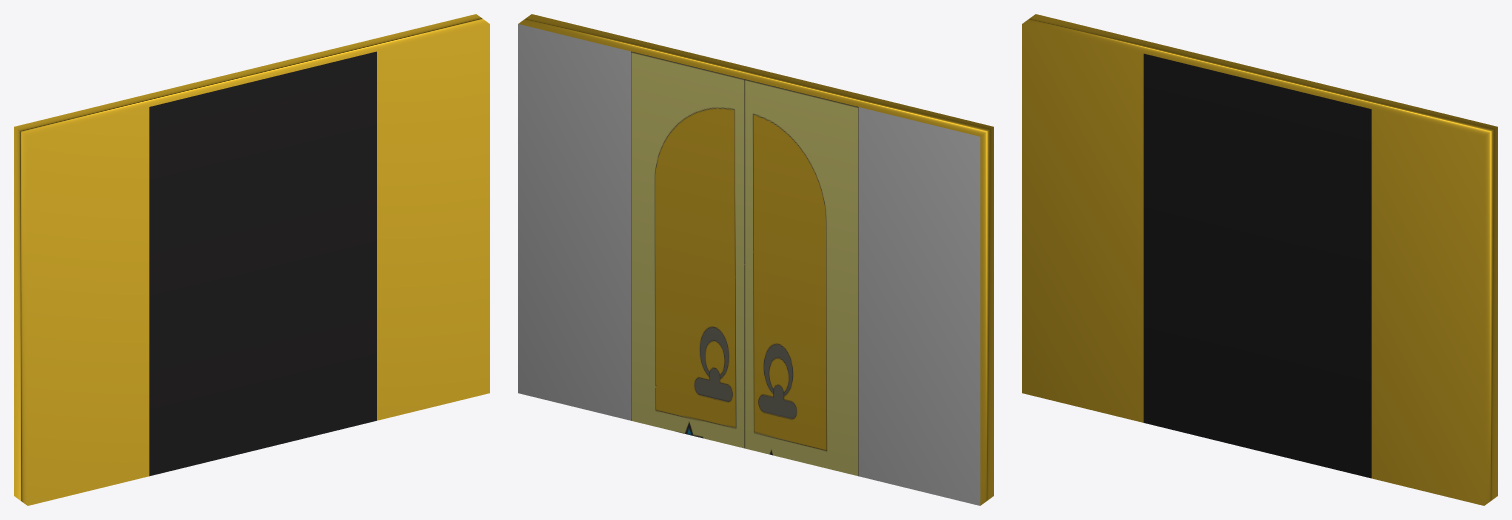
Rendered from porta2.fbx.
The picture shows the model from 3 angles, left to right: view 1: azimuth 30°, elevation 25°; view 2: azimuth 150°, elevation 25°; view 3: azimuth 330°, elevation 25°; orthographic projection.
Visible parts, largest first — view 1: Cube_004; view 2: Cube_004; view 3: Cube_004.
Part boxes in pixels (x1=…): Cube_004: x1=14, y1=14, x2=489, y2=505; Cube_004: x1=518, y1=14, x2=993, y2=505; Cube_004: x1=1022, y1=14, x2=1497, y2=505.
Size of the model in its own units: 7.48 by 5.71 by 0.3805.
